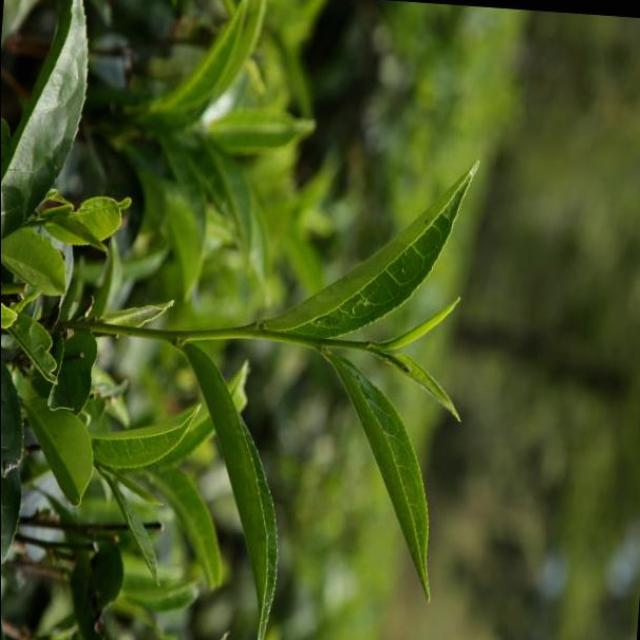Stem: (306, 337, 322, 349)
